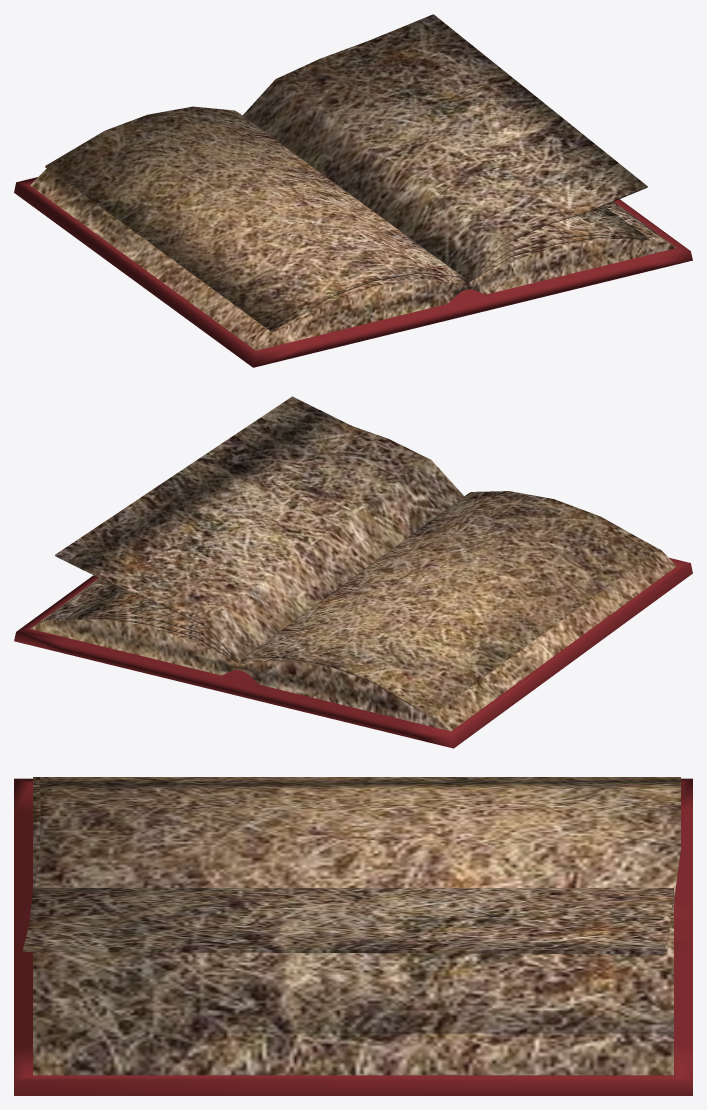
The model's file is hon2.fbx.
The picture shows the model from 3 angles, top to bottom: view 1: azimuth 30°, elevation 25°; view 2: azimuth 150°, elevation 25°; view 3: azimuth 270°, elevation 25°; orthographic projection. The views are drawn at different scales.
Visible parts, largest first — view 1: Plane.003, Plane.002; view 2: Plane.003, Plane.002; view 3: Plane.003, Plane.002.
Part boxes in pixels (left/top/right/bottom): Plane.003: left=45, top=14, right=649, bottom=331; Plane.002: left=14, top=168, right=692, bottom=367; Plane.003: left=55, top=396, right=656, bottom=716; Plane.002: left=14, top=515, right=692, bottom=748; Plane.003: left=23, top=777, right=680, bottom=1033; Plane.002: left=14, top=777, right=692, bottom=1095.
Size of the model in its own units: 425 by 79.8 by 401.
1 material, 1 textured.
